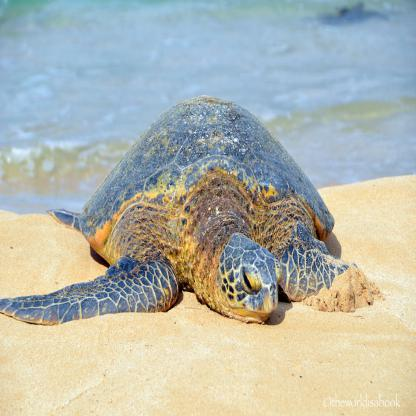turtle: (204, 224, 285, 330)
